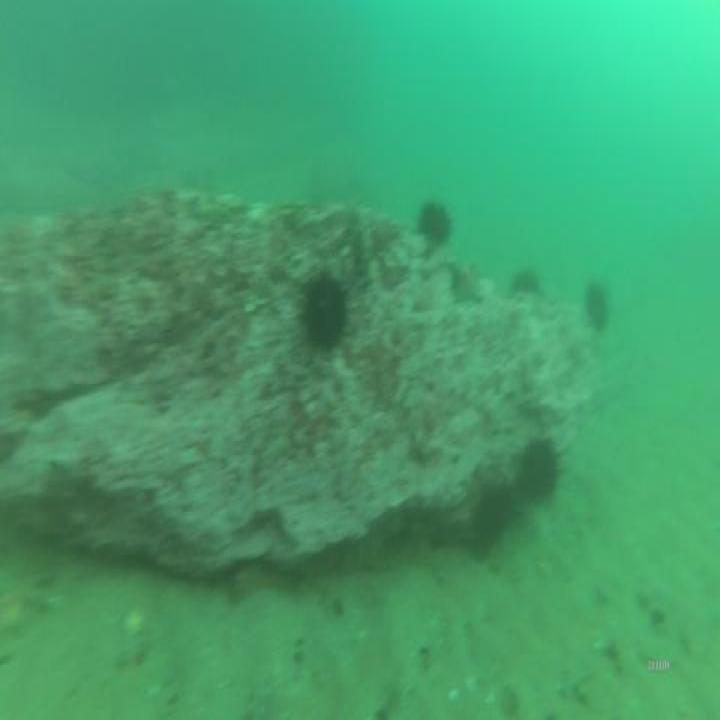echinus: (293, 263, 361, 368), (511, 422, 571, 518), (410, 194, 458, 256), (507, 254, 548, 310), (584, 270, 617, 336)
